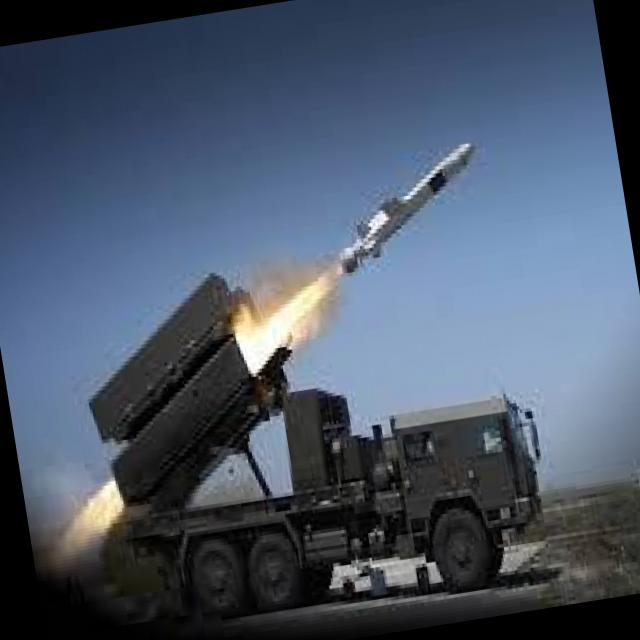rocket: (230, 131, 508, 388)
